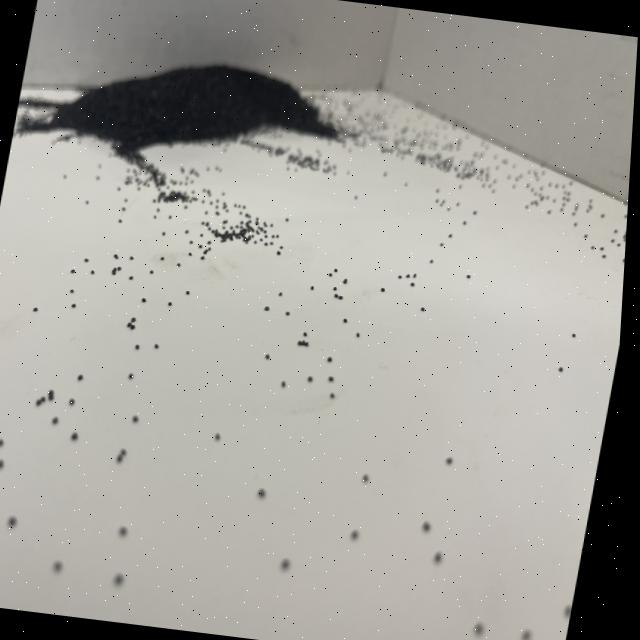Poppy Seeds: (23, 25, 360, 205)
